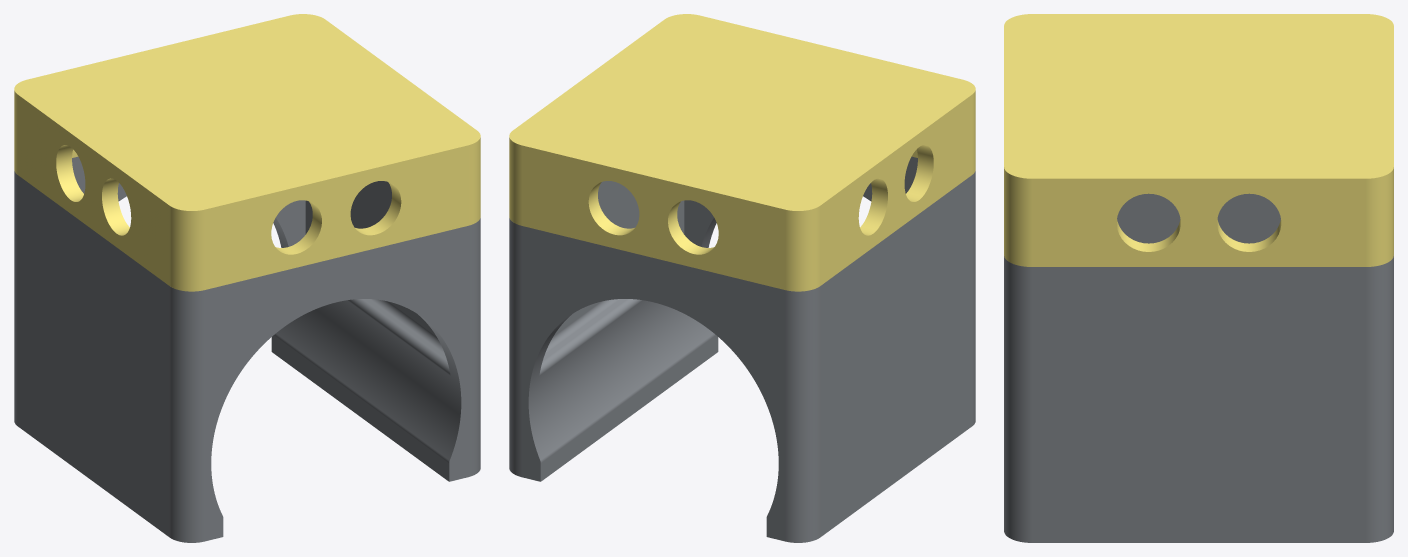
The model's file is chassis.dae.
3 views of the same model, side by side, from view 1: azimuth 30°, elevation 25°; view 2: azimuth 150°, elevation 25°; view 3: azimuth 270°, elevation 25° (orthographic). The views are drawn at different scales.
Visible parts, largest first — view 1: Assembly 1; view 2: Assembly 1; view 3: Assembly 1.
Boxes of the visible parts, box(x1,y1,x2,y2) form: Assembly 1: box(14, 14, 480, 542); Assembly 1: box(509, 14, 975, 542); Assembly 1: box(1004, 14, 1393, 542).
Bounding box in the file's own units: 0.097 × 0.097 × 0.1.
